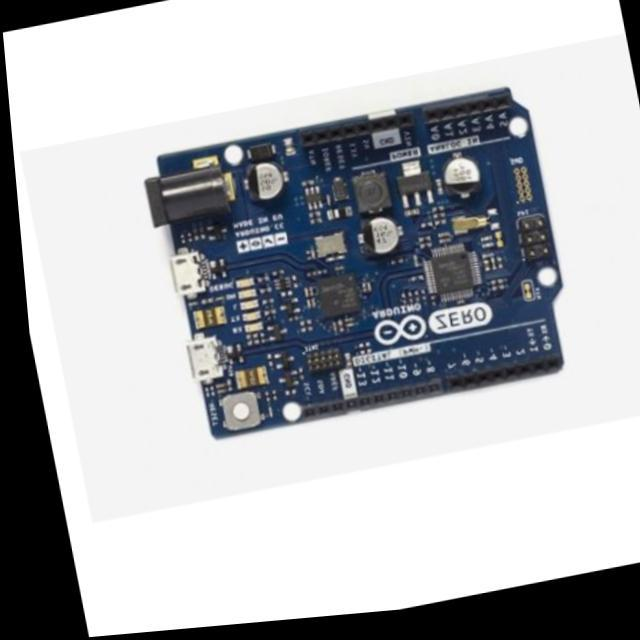Arduino-Zero: (147, 89, 563, 437)
